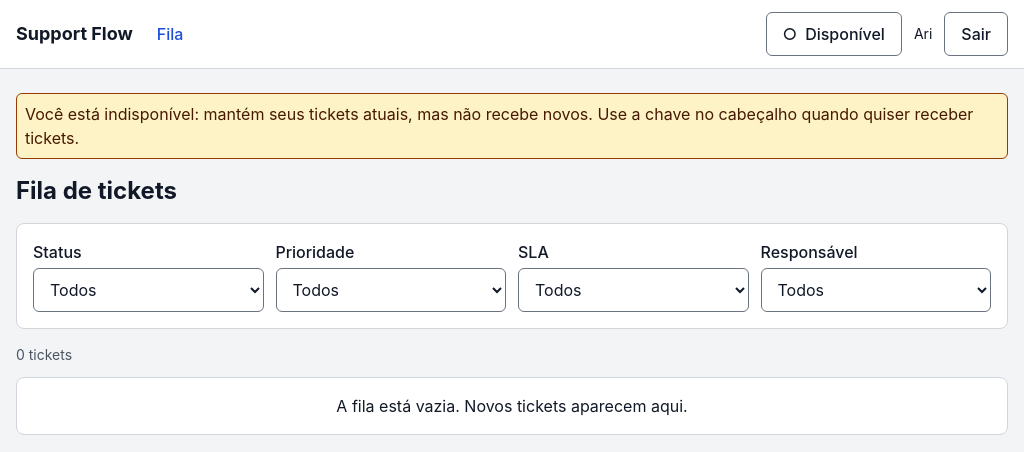
Test: listas › o agente indisponível vê o aviso; a chave tem nome fixo e o estado no ícone
Expected: the text "Você está indisponível: mantém" is shown, [25, 104, 973, 148]
Click the switch named "Disponível para receber tickets" at (834, 34), box [766, 12, 902, 56]
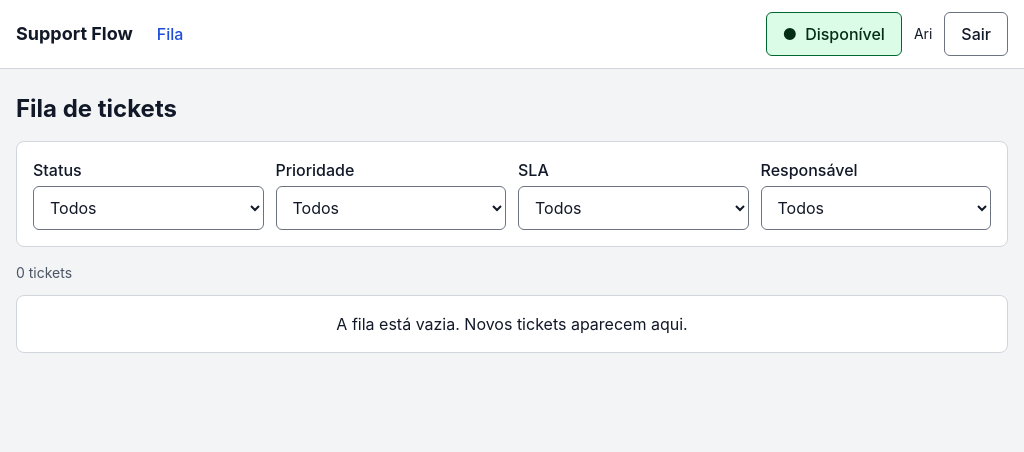
Expected: the text "Você está indisponível: mantém" is gone
